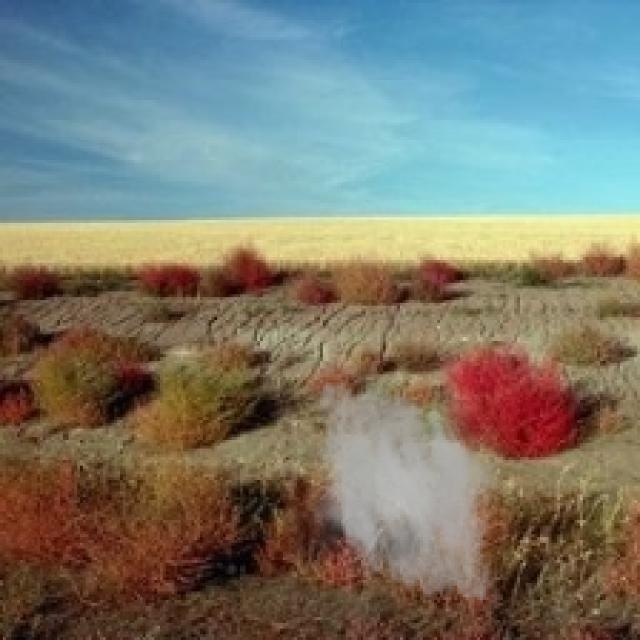smoke: (303, 372, 511, 612)
